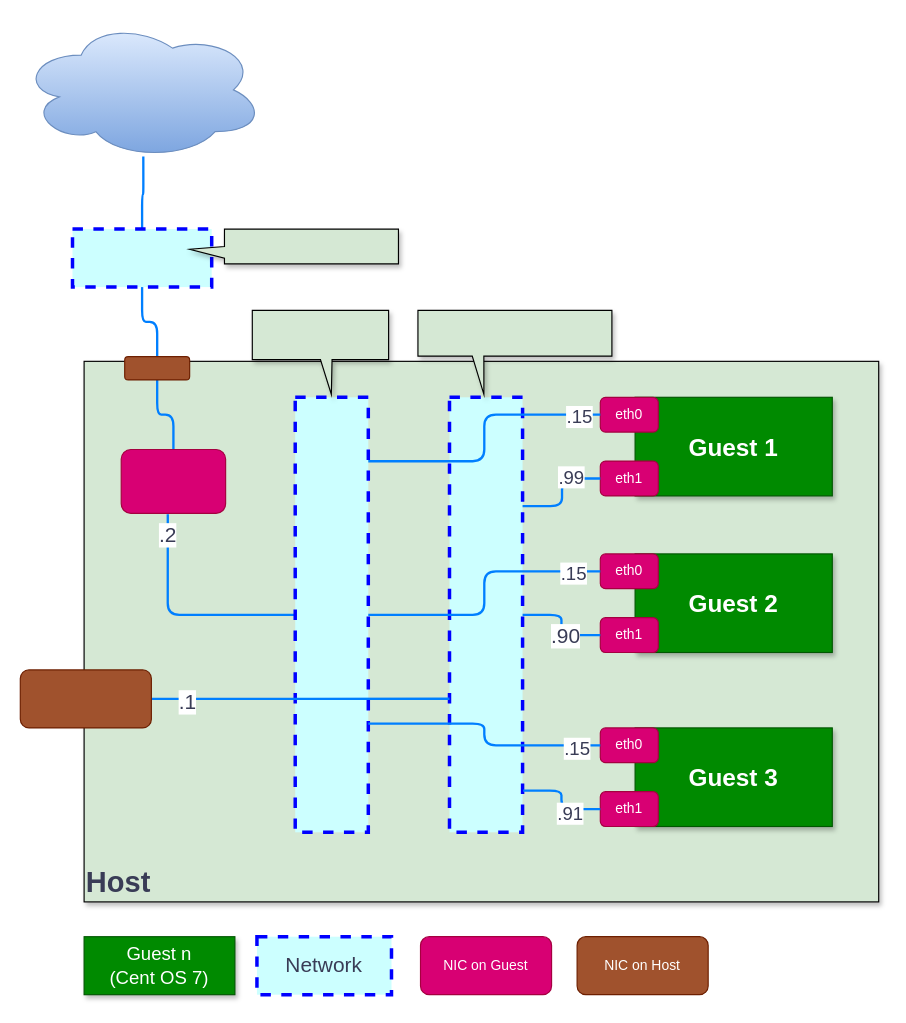
This 906x1023 diagram has some shape labels left out. The centre of each missing label's shape, as x and y in pixels:
Ethernet: the point at 157,368
External Network: the point at 294,247
Host Only Adapter: the point at 85,698
Host Only Adapter 192.168.56.0/24: the point at 515,353
Internet: the point at 141,89
NAT 10.0.2.0/24: the point at 321,353
NAT Engine: the point at 173,480
